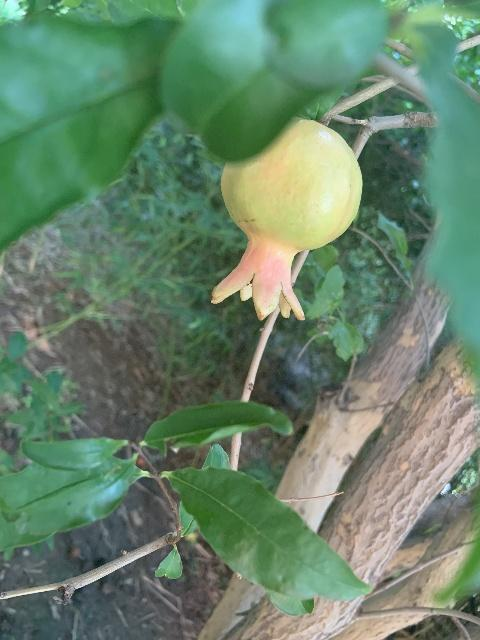mid-growth: (210, 118, 362, 321)
